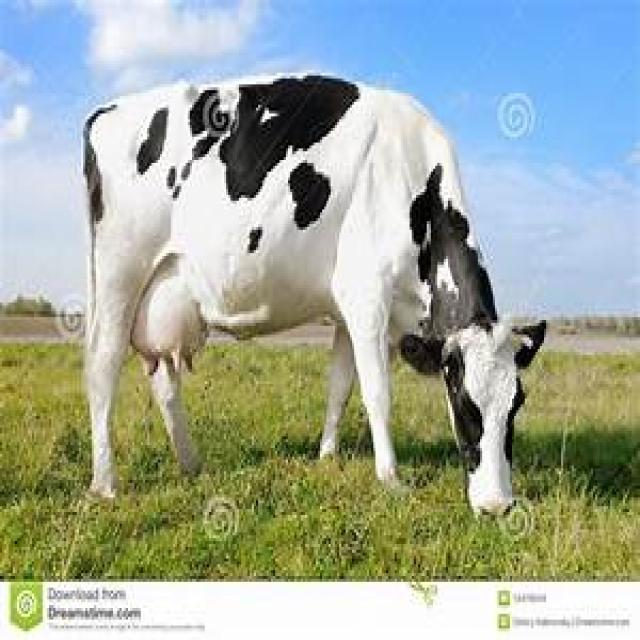cow: (85, 77, 541, 512)
